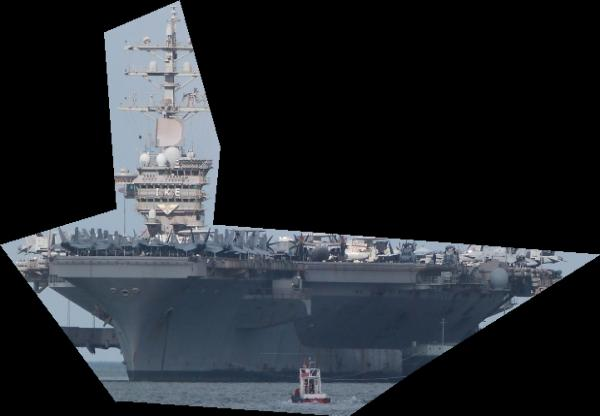Aircraft Carrier: (0, 0, 600, 416)
